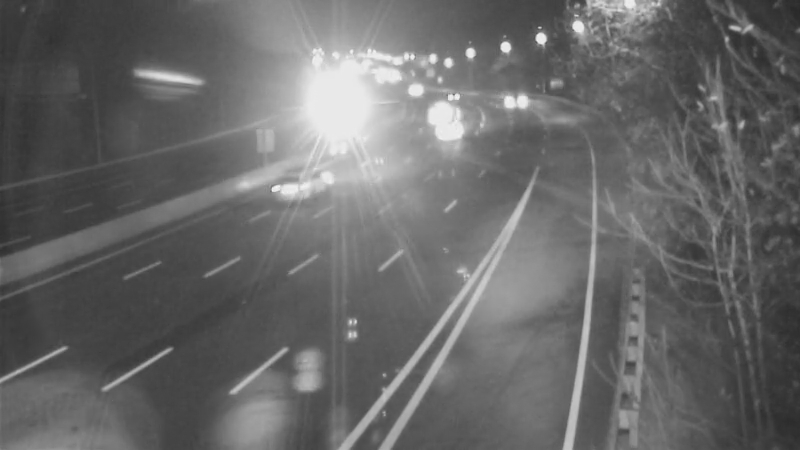vehicle: (259, 142, 339, 222), (391, 65, 441, 115), (430, 71, 480, 121), (484, 74, 534, 124), (414, 82, 464, 132), (420, 111, 470, 161), (307, 97, 357, 147)
